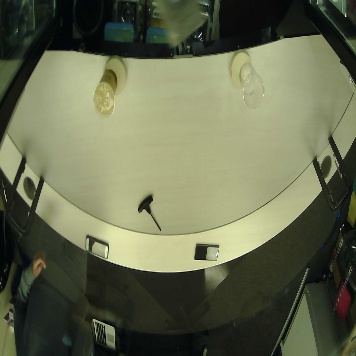empty_cup: (240, 62, 264, 110)
full_cup: (93, 69, 117, 119)
puck: (105, 55, 127, 95), (229, 50, 251, 88)
